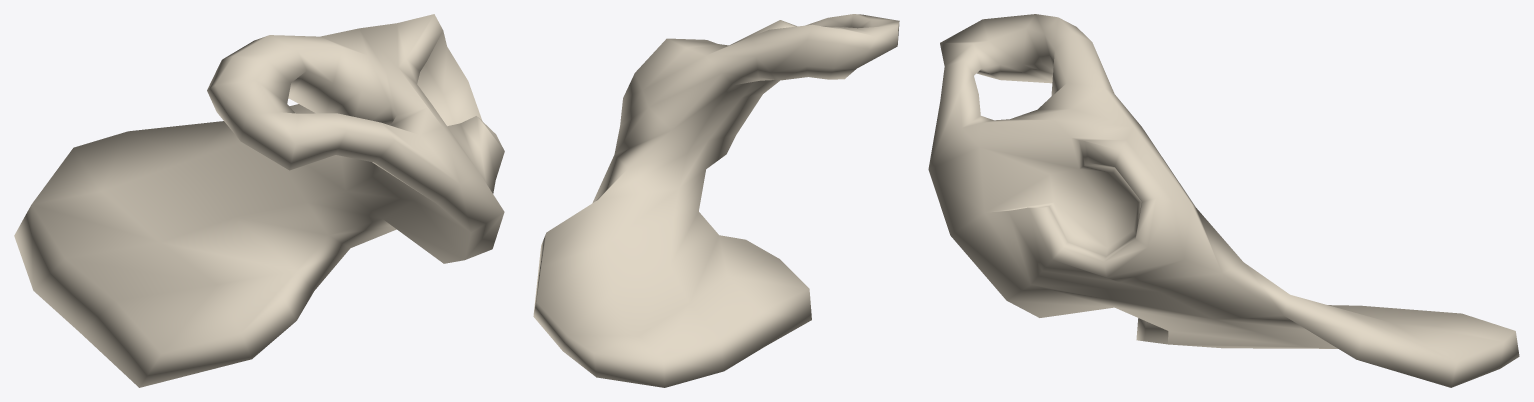
The model's file is HipBone_2.glb.
3 views of the same model, side by side, from view 1: azimuth 30°, elevation 25°; view 2: azimuth 150°, elevation 25°; view 3: azimuth 270°, elevation 25° (orthographic). The views are drawn at different scales.
Parts seen in each view (by area): view 1: HipBone_2; view 2: HipBone_2; view 3: HipBone_2.
Boxes of the visible parts, x1,y1,x2,y2 form: HipBone_2: (14, 14, 504, 387); HipBone_2: (533, 14, 899, 387); HipBone_2: (928, 14, 1519, 387).
Size of the model in its own units: 0.2433 by 0.2775 by 0.4601.
